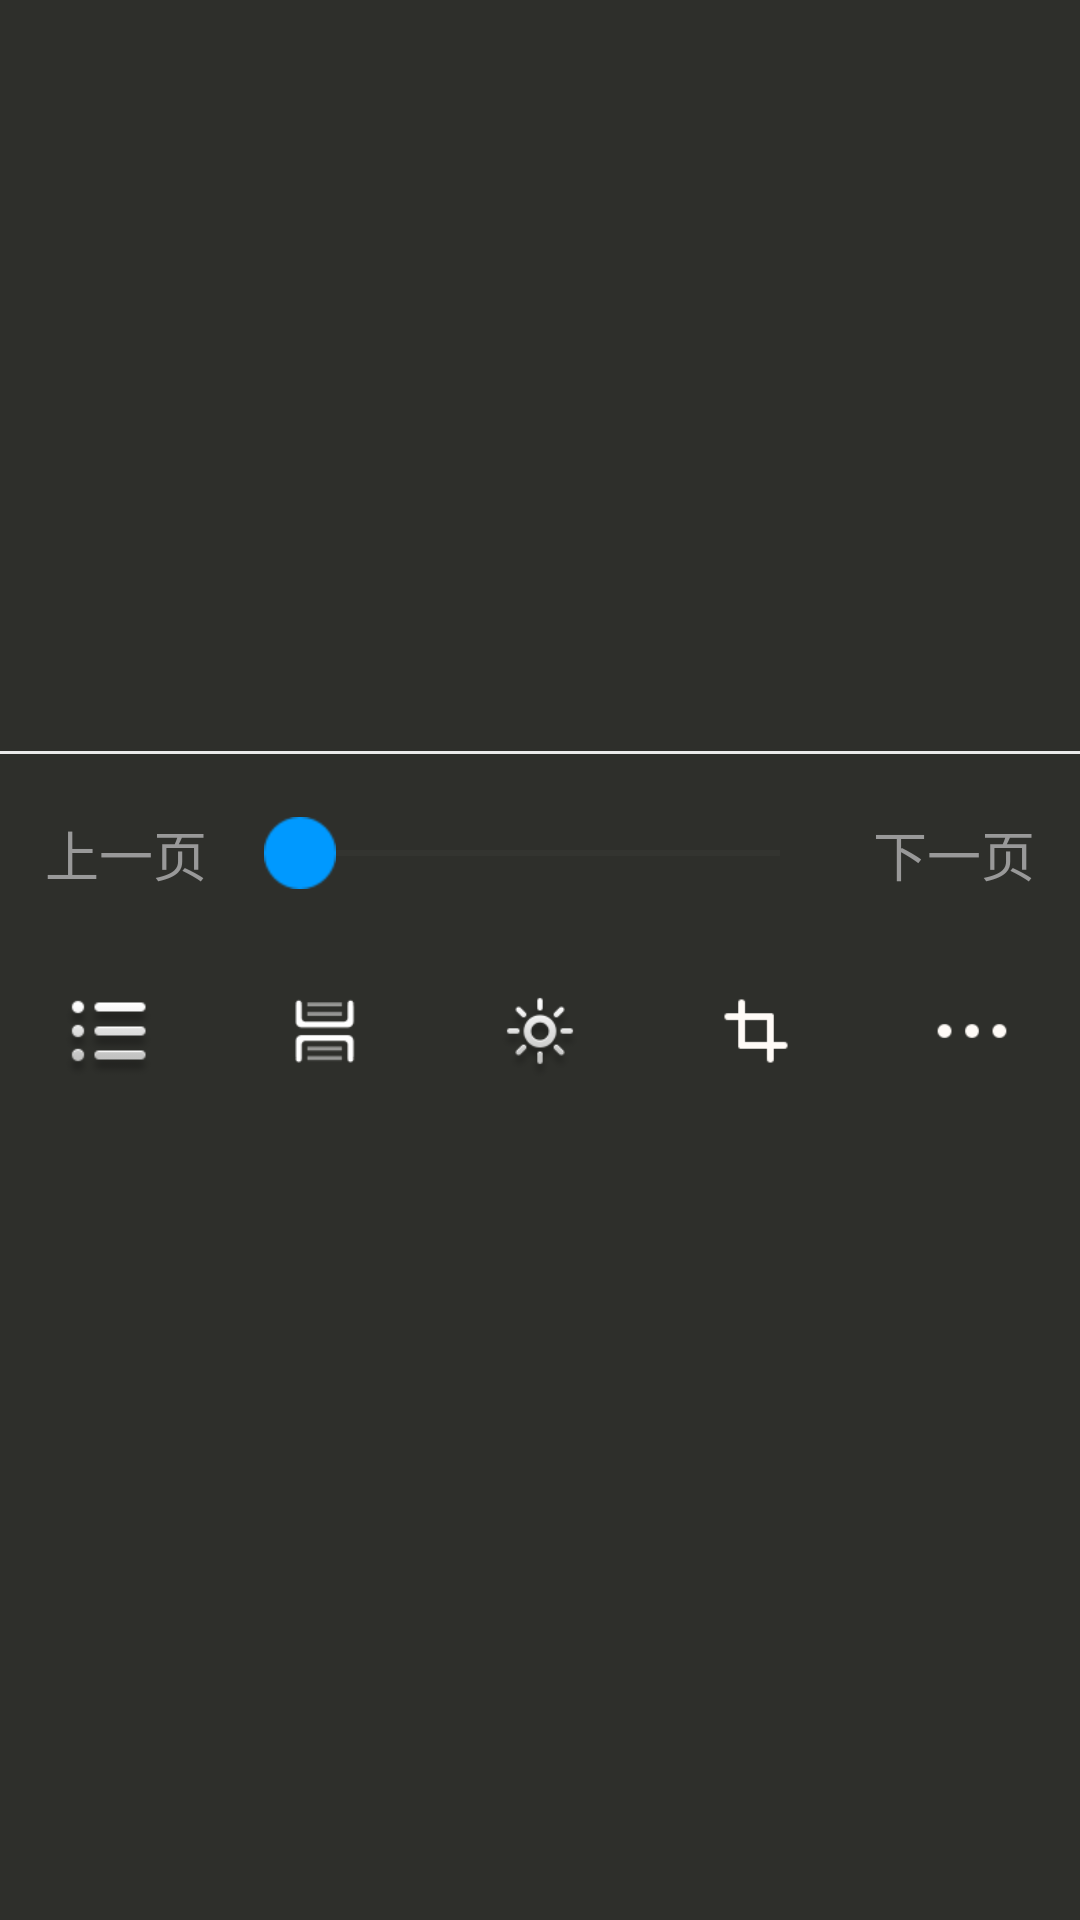

Screen size 1080w x 1920h. Icon name, then its center in pixels as [x,y]:
brightness: [540,1031]
clip: [756,1031]
read mode: [325,1031]
